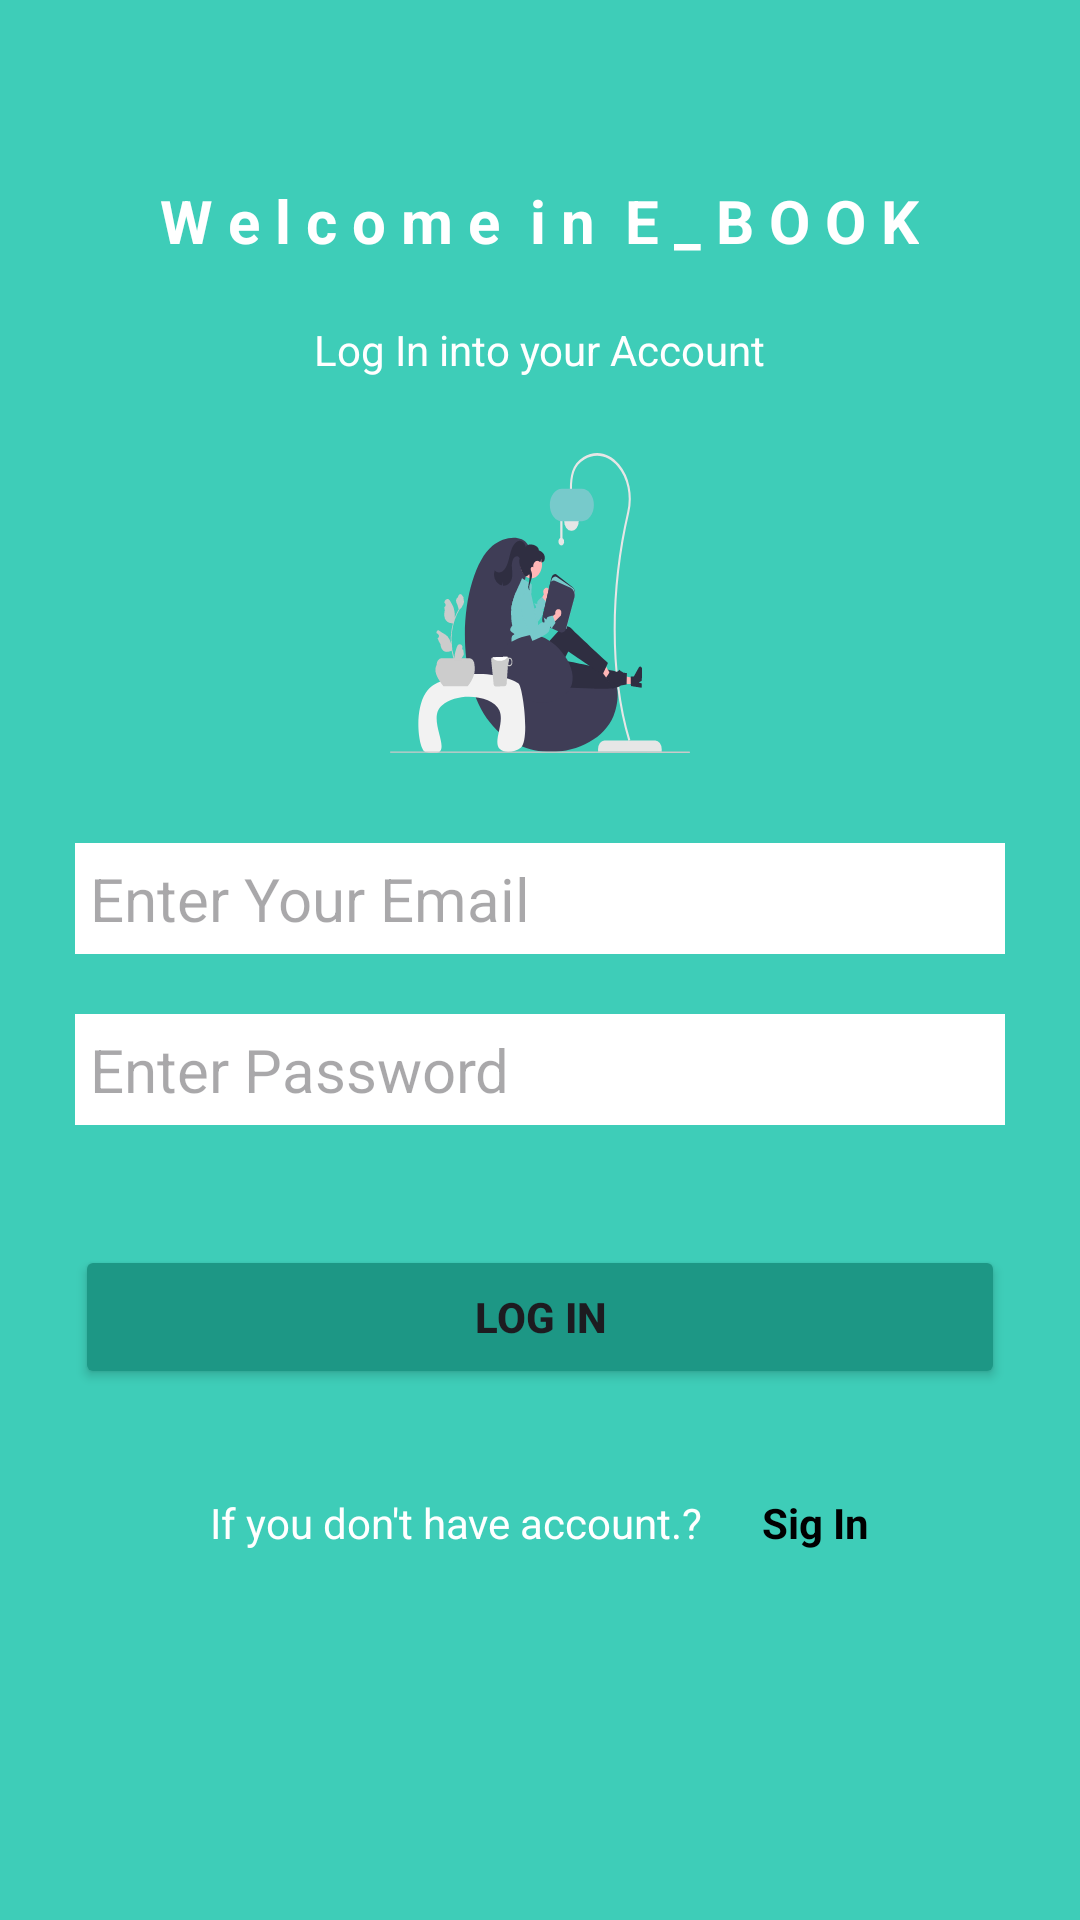

Screen size 1080*1920. Icon name, then its box in pixels as (x1, y1, x2, y2):
reading time: (390, 453, 690, 753)
